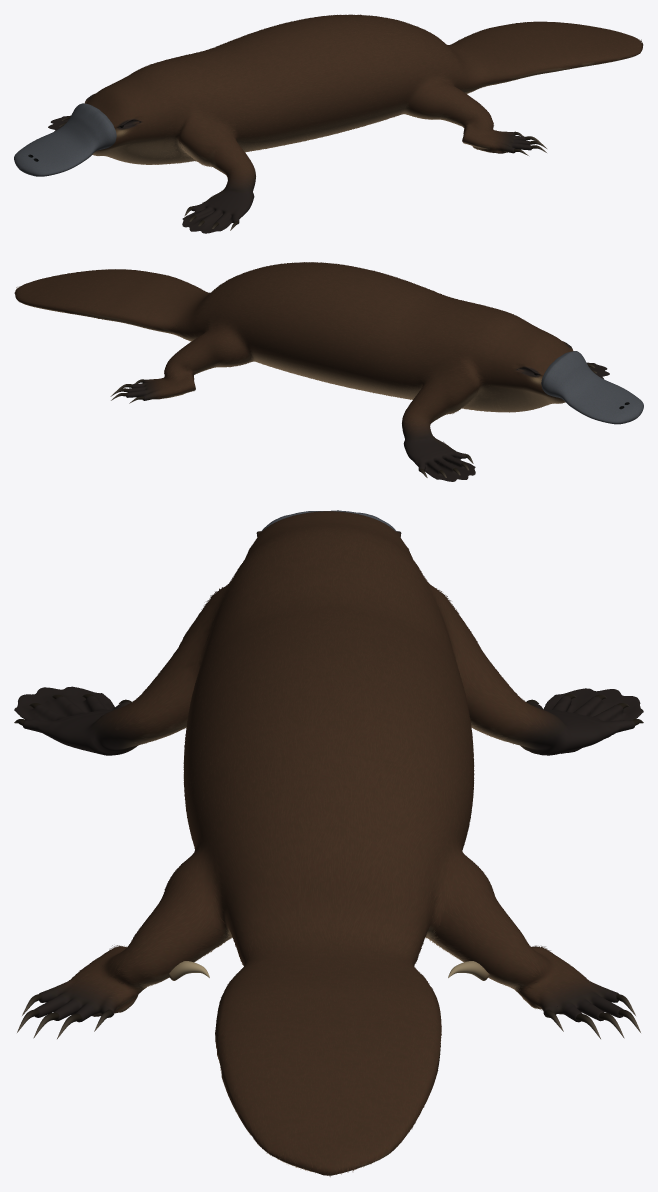
The model's file is living-head-tail-v5-eye-attached.glb.
3 renders of one model, top to bottom at view 1: azimuth 30°, elevation 25°; view 2: azimuth 150°, elevation 25°; view 3: azimuth 270°, elevation 25°, orthographic. The views are drawn at different scales.
Parts seen in each view (by area): view 1: Pose V5 | Cage | continuous skin.001, Pose V5 | Coat | compact guard hairs.001, Pose V5 | Cage | Bill | soft rostrum and frontal shield.001; view 2: Pose V5 | Cage | continuous skin.001, Pose V5 | Coat | compact guard hairs.001, Pose V5 | Cage | Bill | soft rostrum and frontal shield.001; view 3: Pose V5 | Cage | continuous skin.001, Pose V5 | Coat | compact guard hairs.001.
Part boxes in pixels (left/top/right/bottom): Pose V5 | Cage | continuous skin.001: left=48, top=14, right=643, bottom=233; Pose V5 | Coat | compact guard hairs.001: left=88, top=14, right=642, bottom=202; Pose V5 | Cage | Bill | soft rostrum and frontal shield.001: left=14, top=103, right=116, bottom=176; Pose V5 | Cage | continuous skin.001: left=15, top=262, right=609, bottom=481; Pose V5 | Coat | compact guard hairs.001: left=14, top=262, right=569, bottom=442; Pose V5 | Cage | Bill | soft rostrum and frontal shield.001: left=541, top=351, right=643, bottom=424; Pose V5 | Cage | continuous skin.001: left=14, top=511, right=643, bottom=1175; Pose V5 | Coat | compact guard hairs.001: left=65, top=511, right=598, bottom=1176.
Bounding box in the file's own units: 0.5046 × 0.0844 × 0.2215.
Materials: 7 (2 with a texture image).
